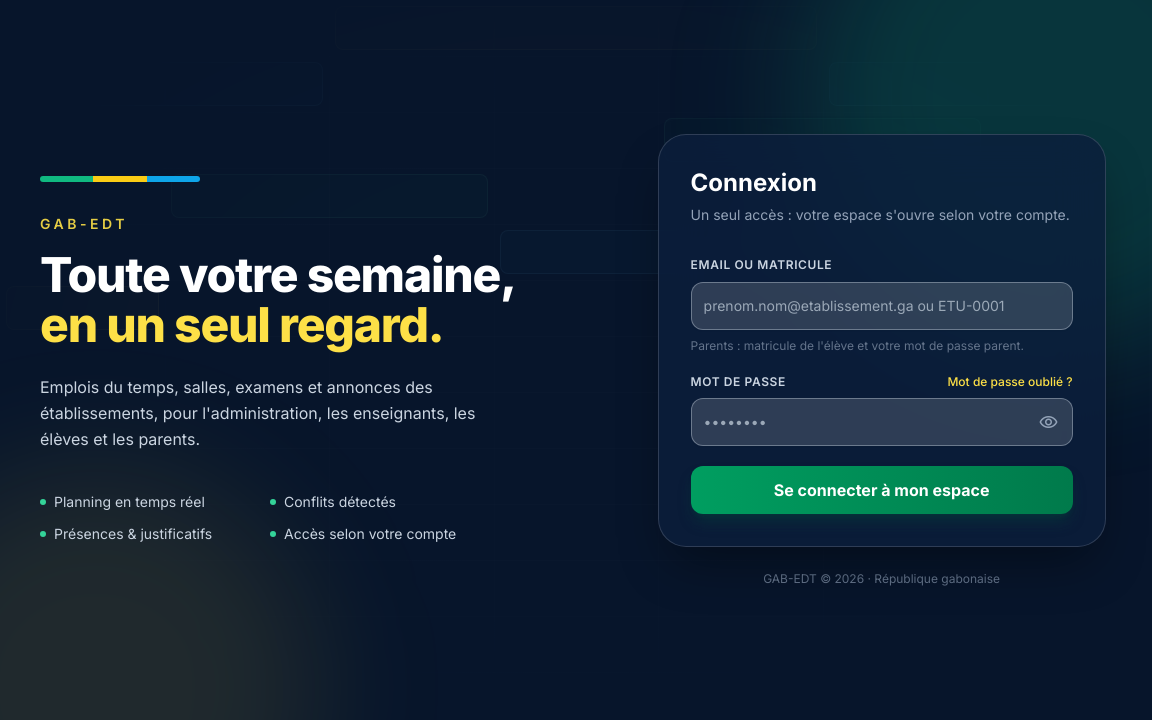
Test: LoginPage › validates empty fields
Click the button "Se connecter à mon espace".
click(882, 490)  # box [691,466,1073,514]
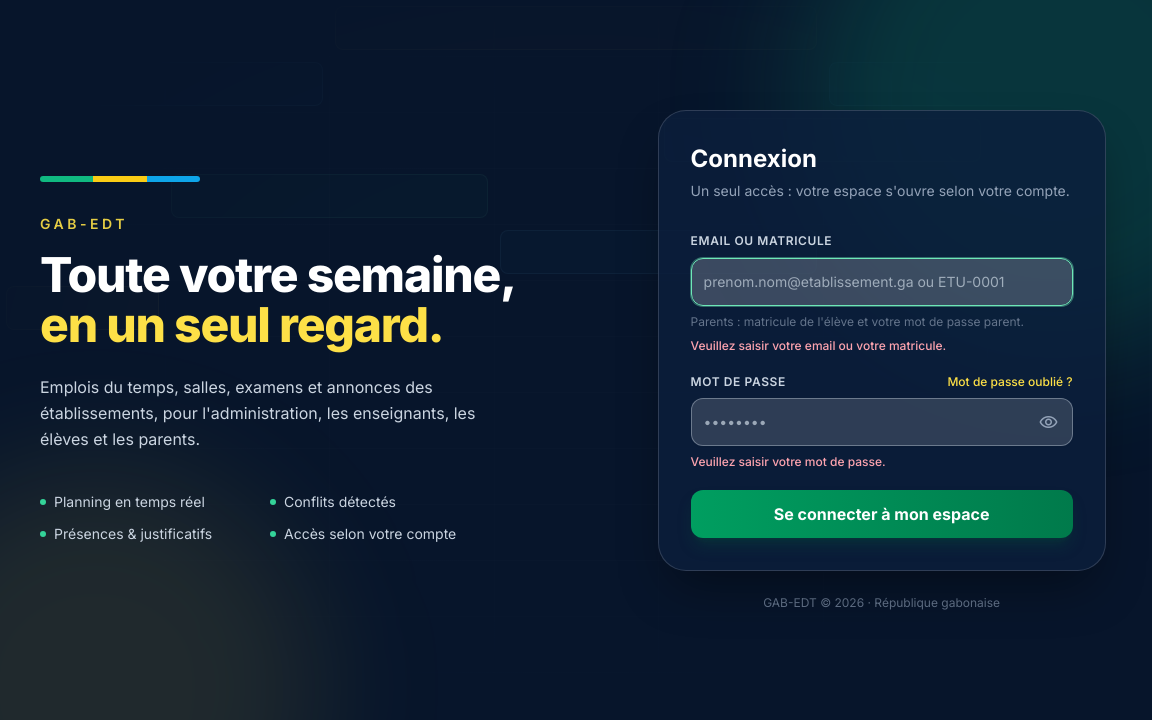
Check: the text "Veuillez saisir votre email ou votre matricule." is shown, box [691,338,946,352]
Check: the text "Veuillez saisir votre mot de passe." is shown, box [691,454,886,468]
